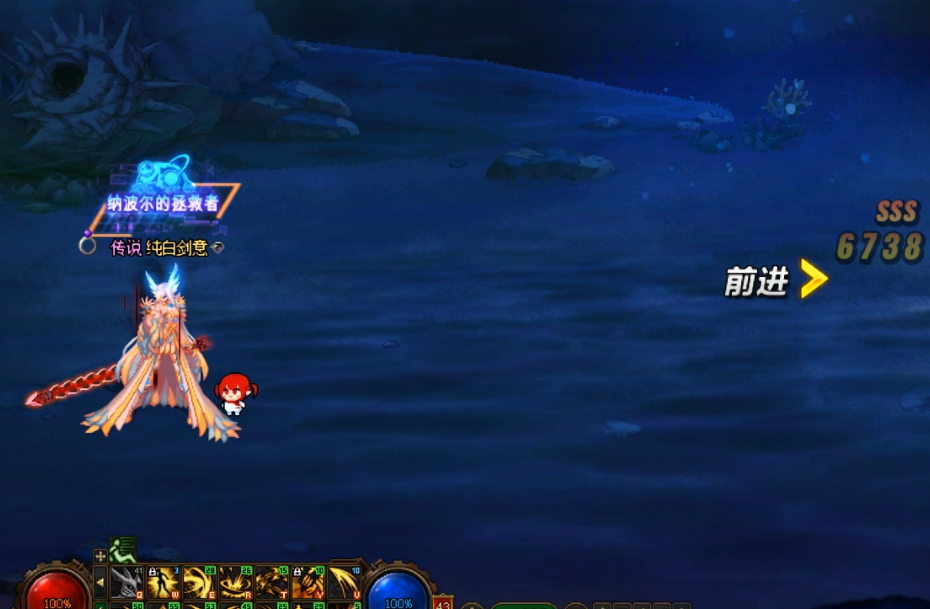forward: (725, 258, 830, 302)
